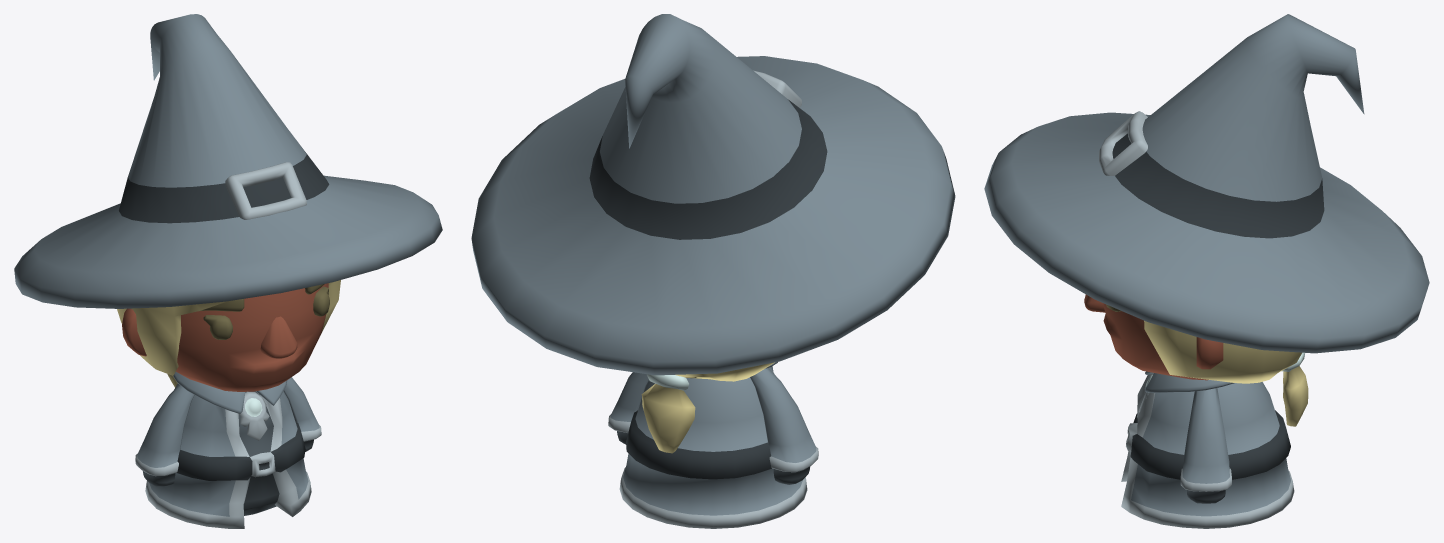
Rendered from mage10.gltf.
The picture shows the model from 3 angles, left to right: view 1: azimuth 30°, elevation 25°; view 2: azimuth 150°, elevation 25°; view 3: azimuth 270°, elevation 25°; orthographic projection. The views are drawn at different scales.
Parts seen in each view (by area): view 1: character_mageHat, character_mageBody, character_mageHead, character_mageArmRight, character_mageHair, character_mageArnLeft; view 2: character_mageHat, character_mageBody, character_mageArmRight, character_mageHair, character_mageArnLeft; view 3: character_mageHat, character_mageBody, character_mageHair, character_mageArnLeft, character_mageHead.
Boxes of the visible parts, x1,y1,x2,y2 form: character_mageHat: (14,14,442,308); character_mageBody: (145,372,311,528); character_mageHead: (122,283,329,391); character_mageArmRight: (135,384,194,487); character_mageHair: (117,280,340,387); character_mageArnLeft: (284,377,321,451); character_mageHat: (471,14,955,375); character_mageBody: (619,362,807,528); character_mageArmRight: (750,368,818,484); character_mageHair: (641,362,774,453); character_mageArnLeft: (608,372,648,444); character_mageHat: (984,14,1429,353); character_mageBody: (1121,371,1294,528); character_mageHair: (1144,320,1308,426); character_mageArnLeft: (1180,388,1231,503); character_mageHead: (1084,294,1223,380).
Bounding box in the file's own units: 2.1 × 2.44 × 2.05.
